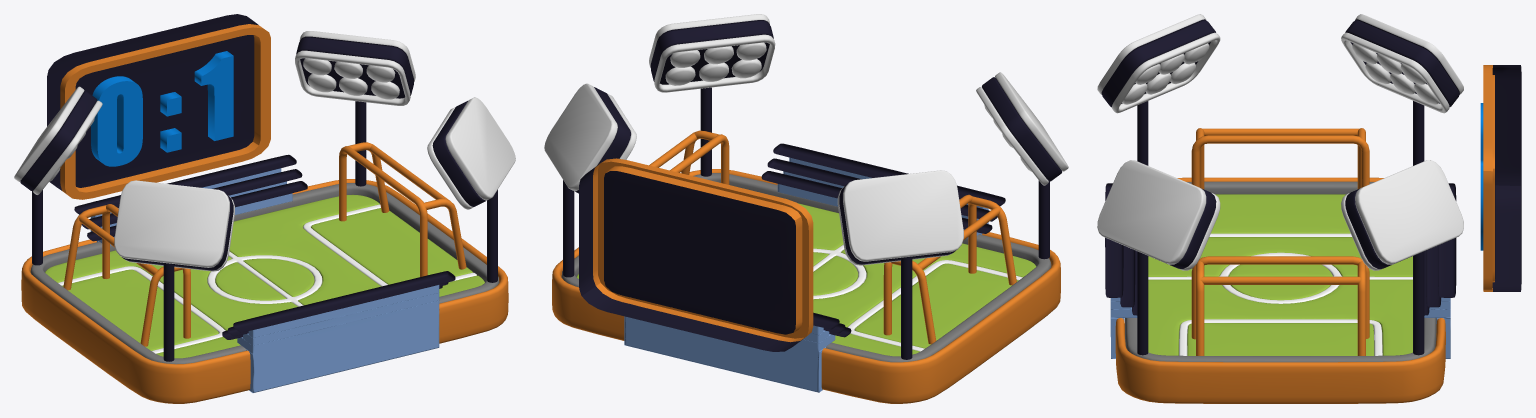
3 renders of one model, left to right at view 1: azimuth 30°, elevation 25°; view 2: azimuth 150°, elevation 25°; view 3: azimuth 270°, elevation 25°, orthographic. The views are drawn at different scales.
Visible parts, largest first — view 1: Base, Light, Board; view 2: Base, Board, Light; view 3: Base, Light, Board.
Part boxes in pixels (x1,y1,x2,y2): Base: [21, 142, 508, 403]; Light: [14, 31, 515, 361]; Board: [47, 14, 270, 199]; Base: [552, 130, 1060, 403]; Board: [579, 158, 813, 351]; Light: [544, 14, 1068, 359]; Base: [1105, 128, 1456, 403]; Light: [1097, 14, 1463, 355]; Board: [1480, 65, 1521, 291].
Size of the model in its own units: 8.17 by 3.93 by 7.19.
